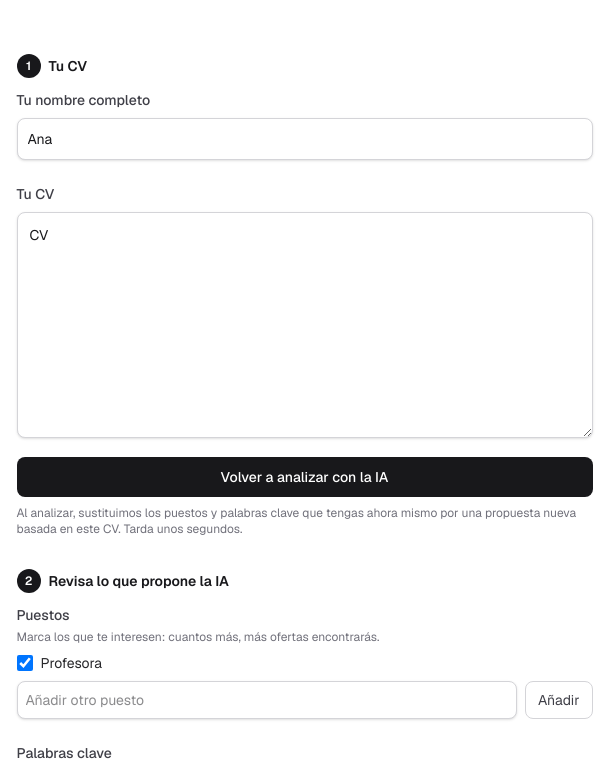
it: FormularioPerfil — B2: propuesta automática de puestos y palabras clave (T86/T88) › muestra sugerencias de autocompletado mientras se escribe una palabra clave nueva (T87)
Step 1. Click the button "Volver a analizar con la IA" → coordinates (304, 476), box [16, 456, 592, 496]
(page scrolled)
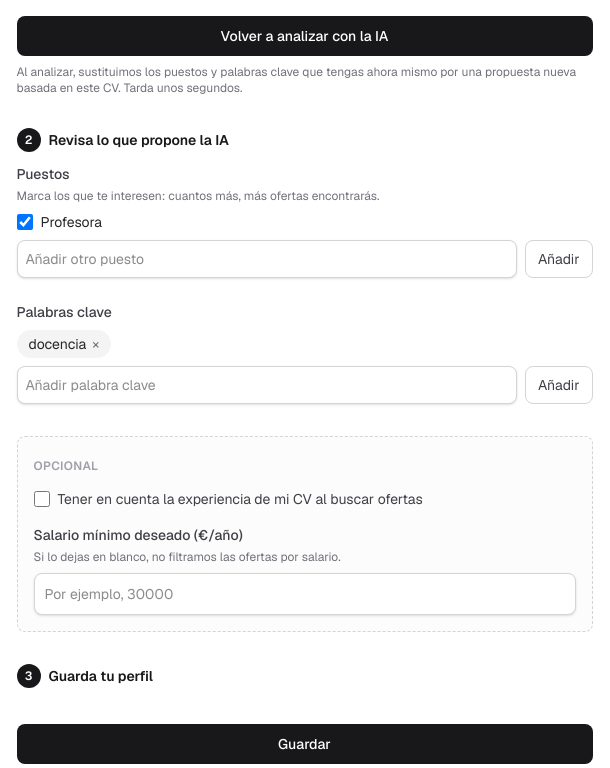
Expected: the text "docencia" is shown, [28, 334, 86, 352]
Step 2. Type "tuto" into the field with placeholder "Añadir palabra clave" → coordinates (267, 384), box [16, 366, 517, 404]
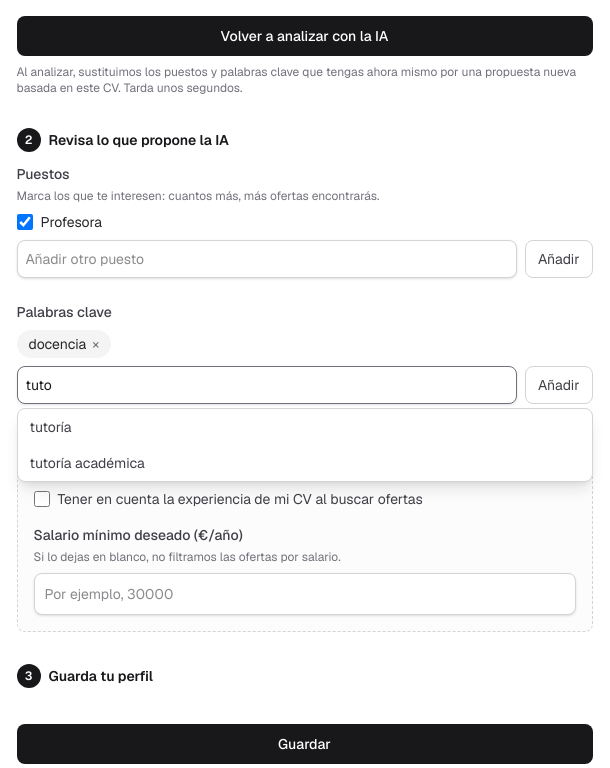
Expected: the button "tutoría" is shown
Expected: the button "tutoría académica" is shown, [18, 444, 592, 480]
Step 3. Click the button "tutoría" → coordinates (51, 426), box [18, 408, 592, 444]
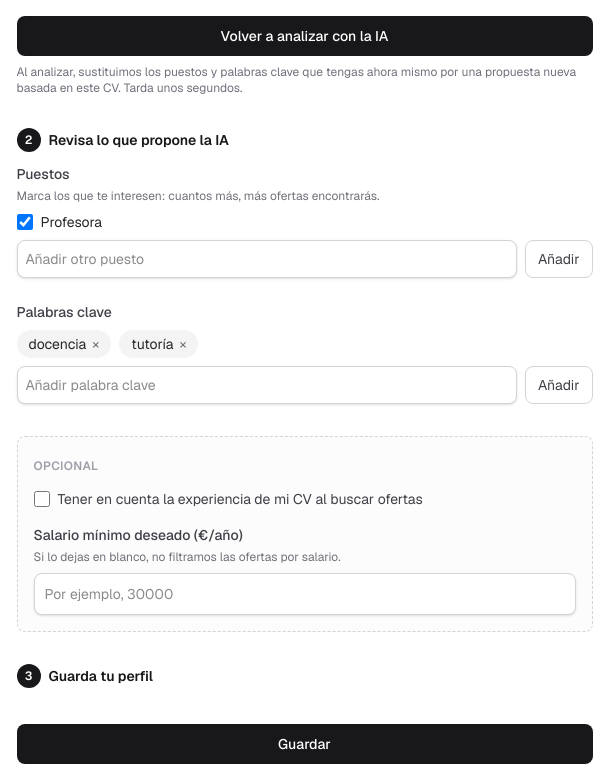
Expected: the text "tutoría" is shown, [131, 334, 173, 352]
